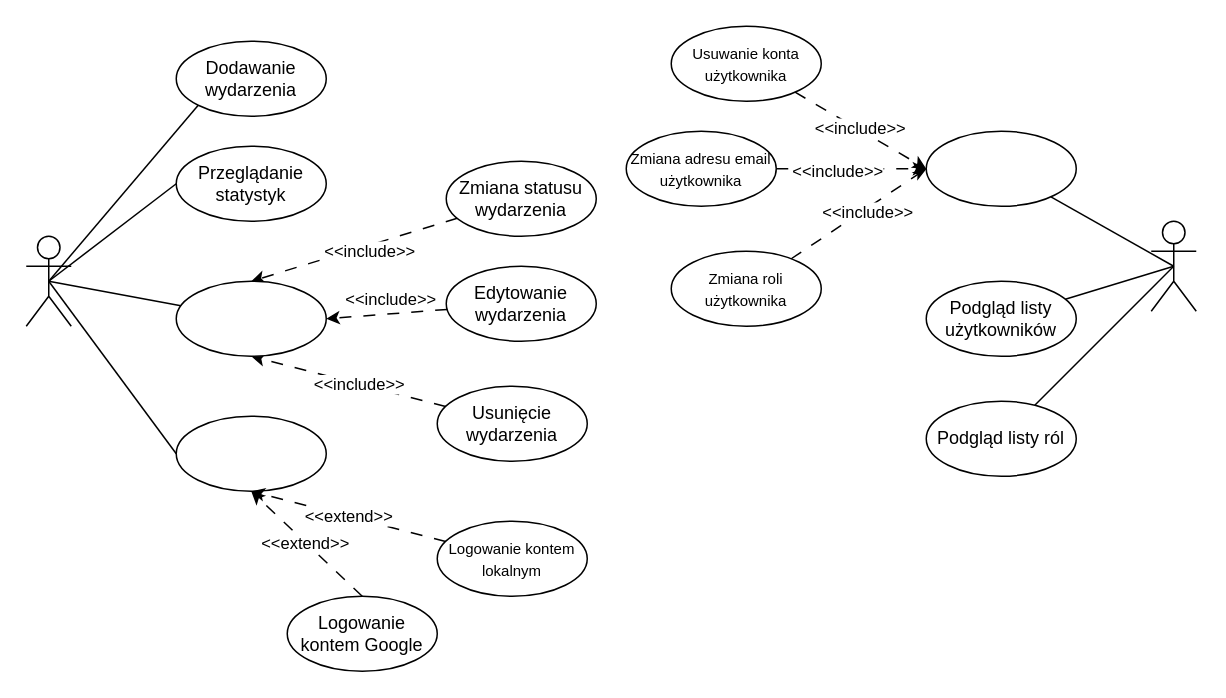
The diagram is 1226 pixels wide and 698 high, and some of its shapes have lost their labels. The centre of each missing label's shape, as x and y in pixels:
"Admin" goes at (1173,265).
"Logowanie do aplikacji" goes at (250,453).
"Przeglądanie swoich wydarzeń" goes at (250,318).
"User" goes at (48,280).
"Zarządzanie użytkownikami" goes at (1000,168).
